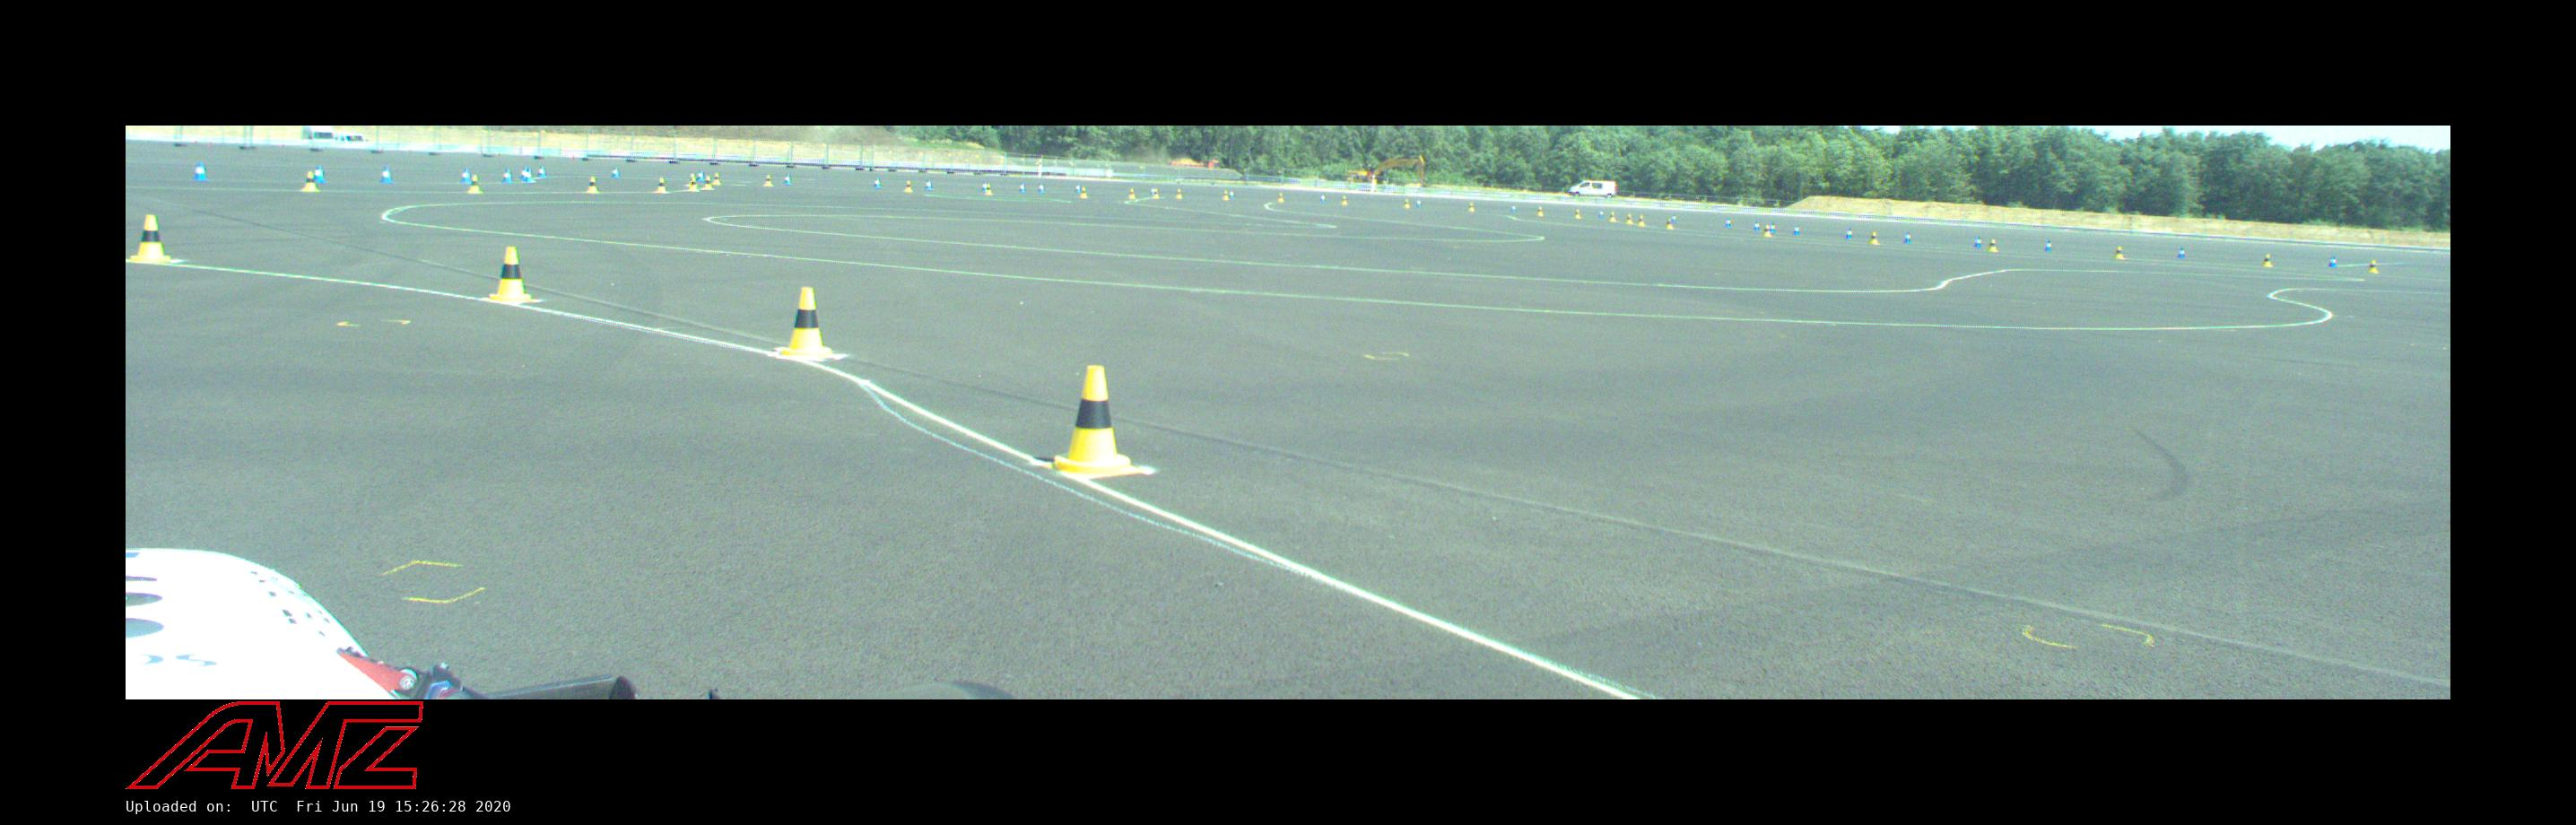blue_cone: (195, 161, 207, 180), (313, 164, 325, 183), (381, 166, 392, 182), (461, 168, 472, 183), (502, 169, 512, 182), (2044, 239, 2054, 251), (537, 166, 547, 177), (2328, 256, 2337, 266), (1903, 231, 1911, 243), (526, 169, 534, 181), (1846, 228, 1854, 239), (1974, 236, 1982, 247), (520, 167, 527, 179), (872, 178, 880, 188), (698, 169, 706, 180), (611, 167, 619, 177), (2178, 247, 2186, 257), (1793, 225, 1801, 235), (784, 174, 791, 185), (925, 179, 932, 190), (981, 181, 988, 192), (1038, 184, 1046, 192), (1019, 183, 1026, 192), (1754, 221, 1760, 230), (1150, 186, 1155, 195), (1319, 194, 1326, 202), (1726, 220, 1732, 228), (1771, 222, 1776, 231), (1672, 213, 1677, 222), (1075, 184, 1081, 193), (1511, 204, 1517, 212), (1598, 210, 1604, 217)
yellow_cone: (1049, 365, 1136, 475), (782, 288, 834, 354), (491, 247, 533, 302), (132, 214, 169, 262), (302, 171, 318, 191), (467, 174, 481, 192), (587, 177, 599, 192), (656, 178, 666, 192), (2368, 259, 2379, 274), (687, 172, 698, 186), (1988, 239, 1998, 251), (690, 177, 699, 190), (2264, 254, 2272, 266), (2115, 246, 2123, 257), (1870, 232, 1878, 244), (704, 176, 712, 187), (764, 175, 772, 186), (1763, 225, 1771, 236), (905, 180, 912, 191), (1638, 215, 1645, 226), (714, 172, 721, 183), (1128, 188, 1135, 199), (1609, 212, 1616, 221), (1665, 220, 1672, 229), (1340, 195, 1347, 204), (1277, 193, 1284, 202), (985, 185, 991, 195), (1081, 187, 1086, 198), (1403, 199, 1410, 207), (1574, 209, 1580, 218), (1223, 190, 1229, 199), (1626, 213, 1632, 222), (1537, 206, 1544, 215), (1176, 188, 1182, 197), (1153, 188, 1159, 197), (1468, 202, 1474, 211)
